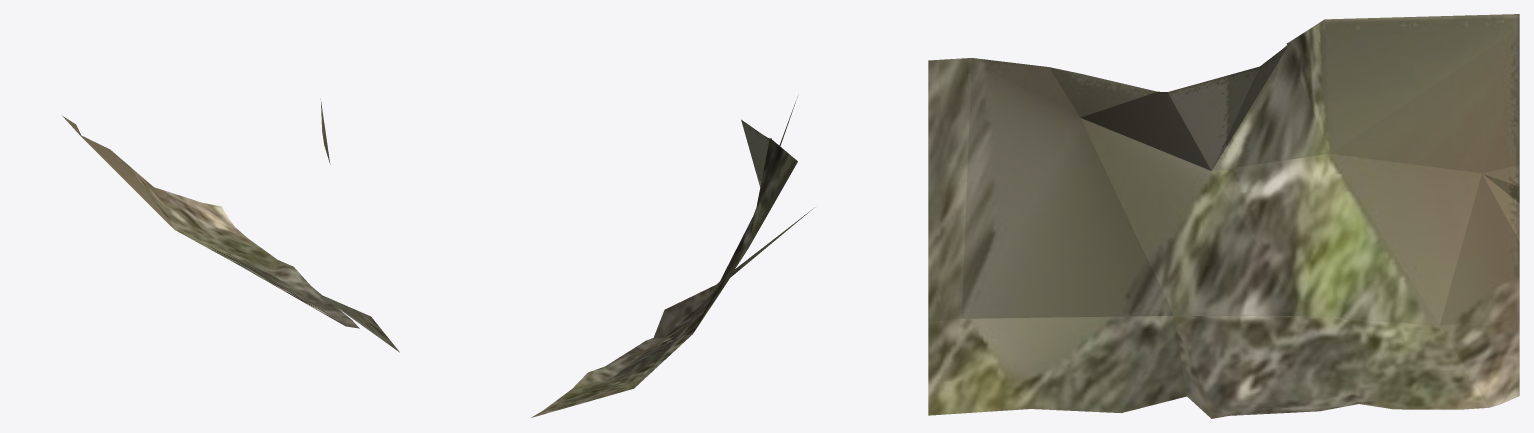
3 renders of one model, left to right at view 1: azimuth 30°, elevation 25°; view 2: azimuth 150°, elevation 25°; view 3: azimuth 270°, elevation 25°, orthographic. The views are drawn at different scales.
Bounding box in the file's own units: 2.65 × 3.22 × 5.9.
Materials: 2 (2 with a texture image).
